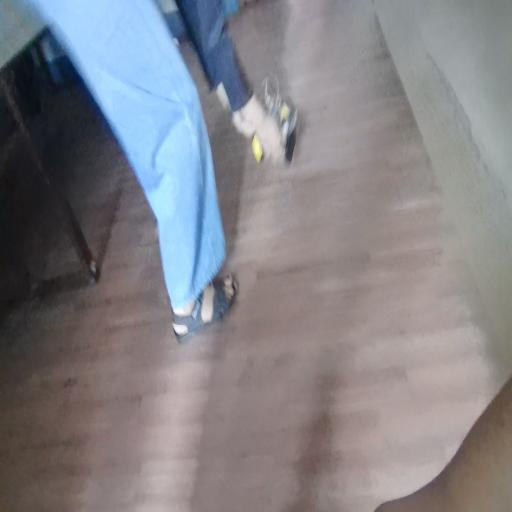car: (280, 88, 309, 156)
